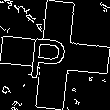P_N: (34, 28, 76, 82)
